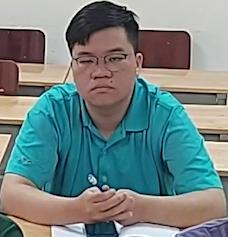Looking_Forward: (7, 3, 227, 236)
